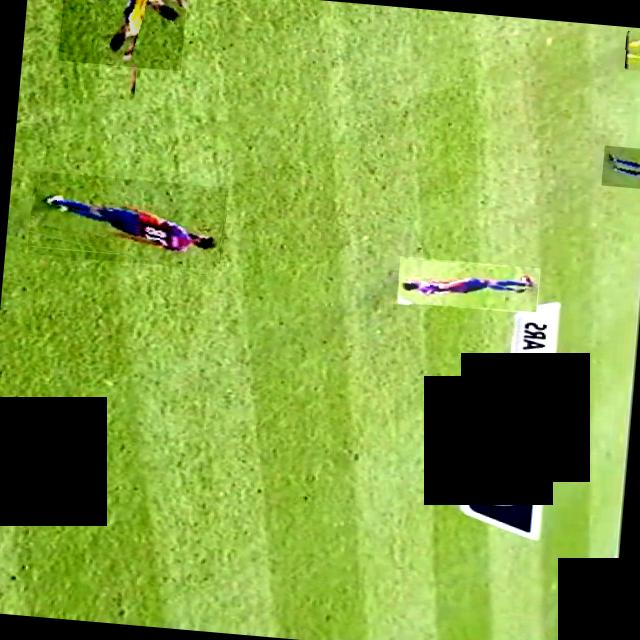soccer-player: (27, 170, 228, 270), (57, 0, 187, 69), (396, 255, 540, 313), (601, 144, 640, 188), (624, 30, 640, 72)
